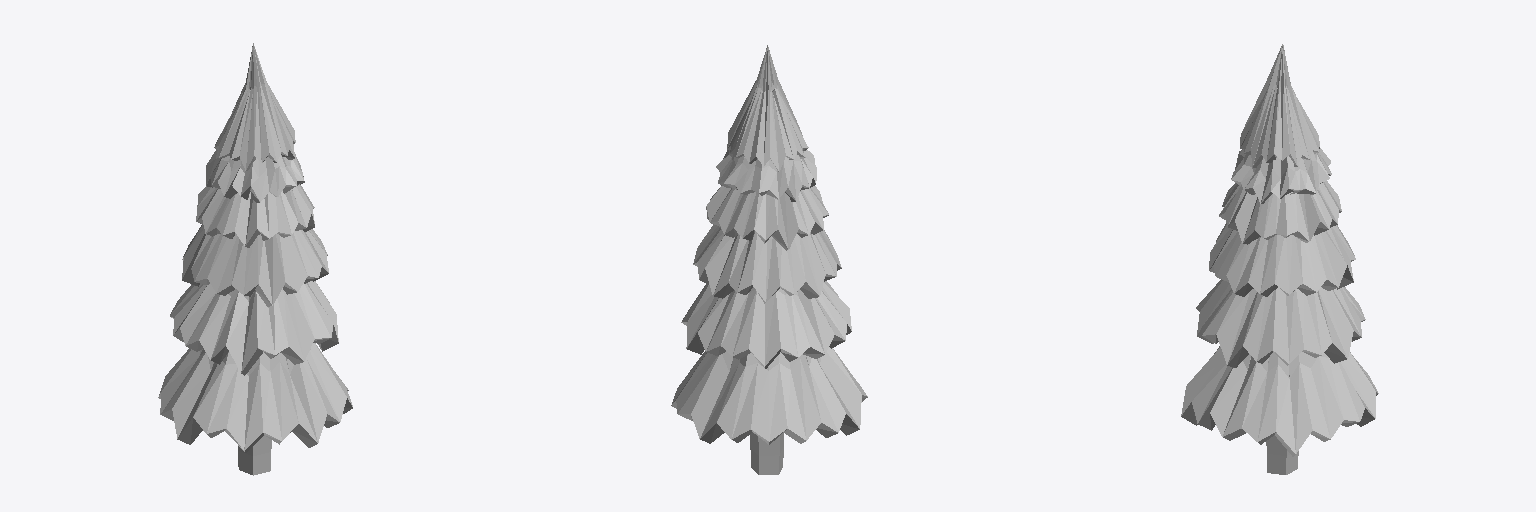
File: Pine_01.obj
The picture shows the model from 3 angles: view 1: azimuth 30°, elevation 25°; view 2: azimuth 150°, elevation 25°; view 3: azimuth 270°, elevation 25°; orthographic projection.
Visible parts, largest first — view 1: Cylinder.001, Cylinder; view 2: Cylinder.001, Cylinder; view 3: Cylinder.001, Cylinder.
Boxes of the visible parts, box(x1,y1,x2,y2) form: Cylinder.001: box(158, 43, 352, 452); Cylinder: box(238, 436, 271, 475); Cylinder.001: box(671, 45, 867, 444); Cylinder: box(750, 432, 783, 474); Cylinder.001: box(1181, 44, 1378, 456); Cylinder: box(1266, 435, 1298, 474).
Bounding box in the file's own units: 2.86 × 6.81 × 2.87.